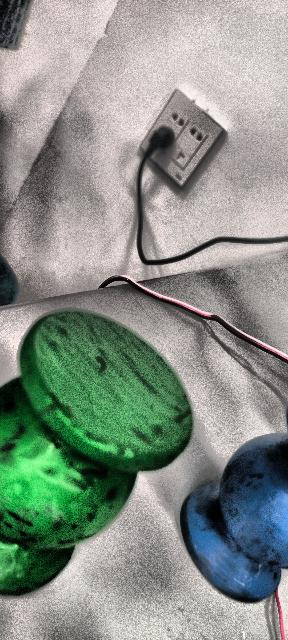blue: (176, 427, 288, 602)
green: (0, 306, 195, 602)
